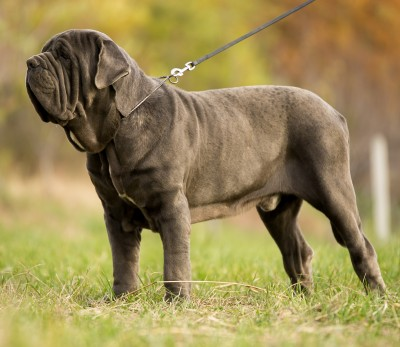neapolitan_mastiff: (26, 28, 389, 304)
